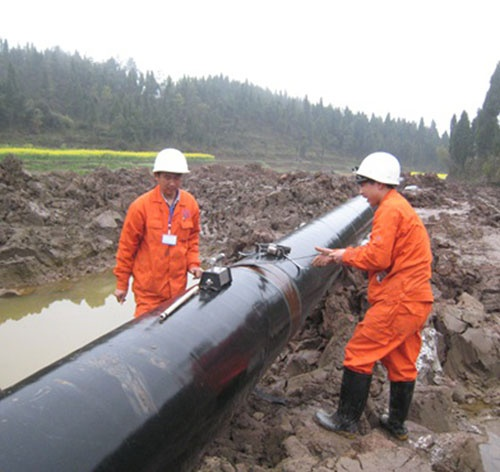white: (355, 150, 402, 203), (151, 146, 188, 195)
